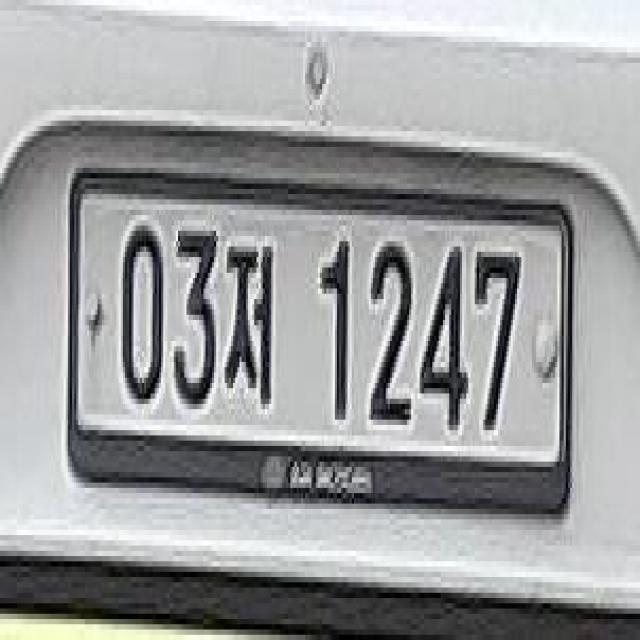illegal_plate: (63, 162, 578, 548)
